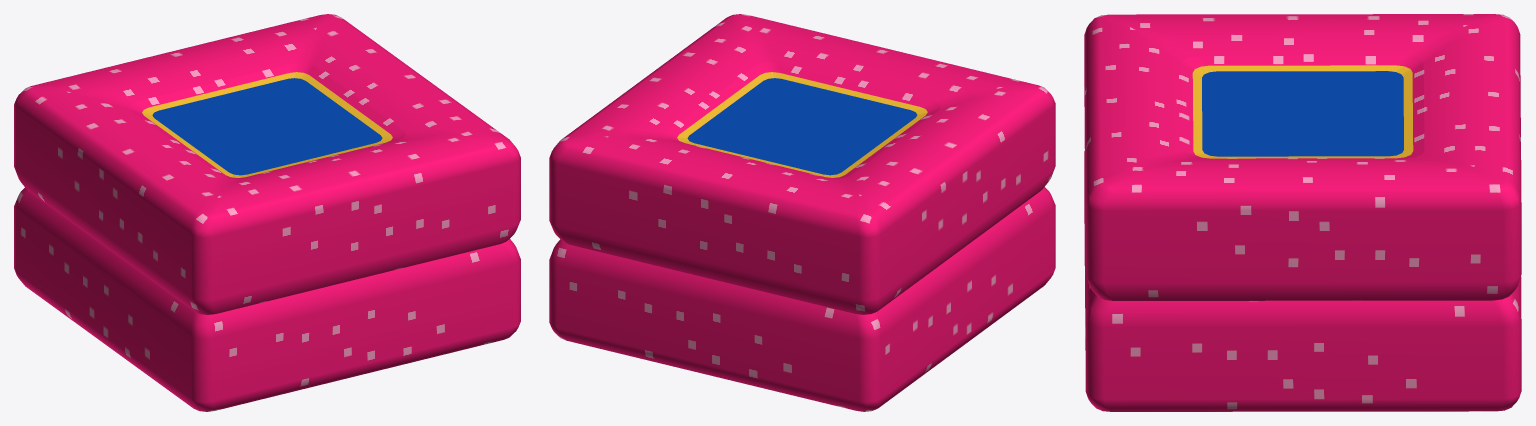
The model's file is PLF0110052.fbx.
3 views of the same model, side by side, from view 1: azimuth 30°, elevation 25°; view 2: azimuth 150°, elevation 25°; view 3: azimuth 270°, elevation 25° (orthographic). The views are drawn at different scales.
Parts seen in each view (by area): view 1: smPLF0110052; view 2: smPLF0110052; view 3: smPLF0110052.
Boxes of the visible parts, x1,y1,x2,y2 form: smPLF0110052: [14, 14, 520, 411]; smPLF0110052: [549, 14, 1055, 411]; smPLF0110052: [1084, 14, 1521, 411].
Bounding box in the file's own units: 196 × 115 × 196.
1 material, 1 textured.
